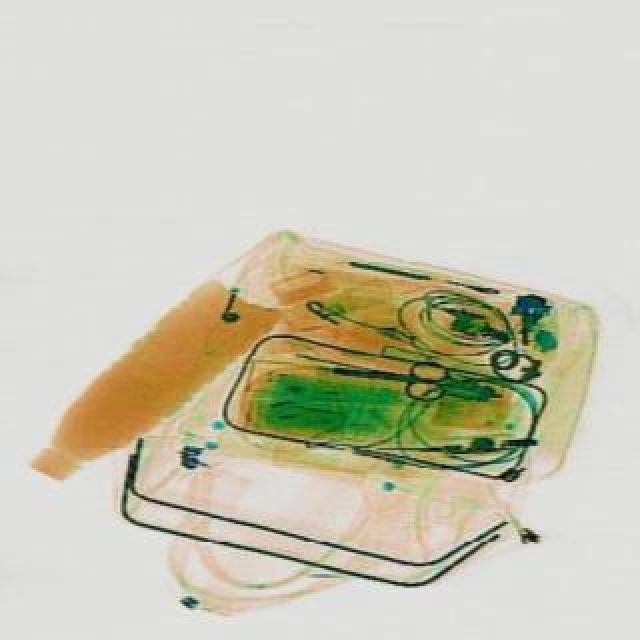pliers: (322, 350, 446, 402)
